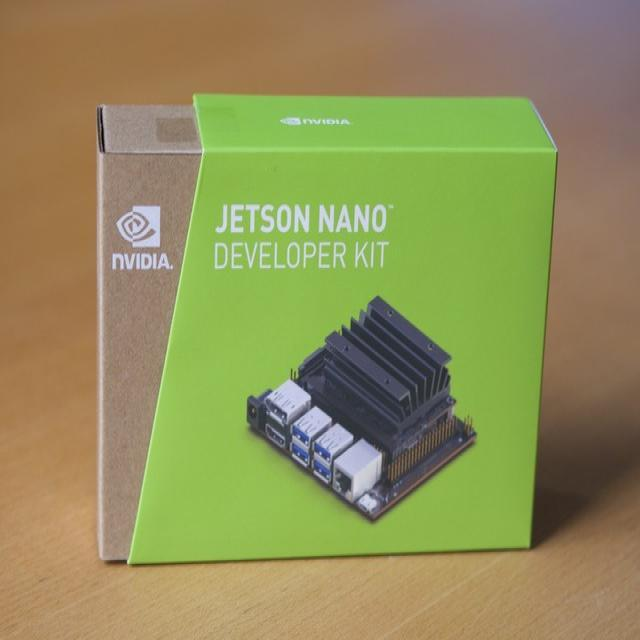Jetson Nano: (247, 297, 481, 521)
